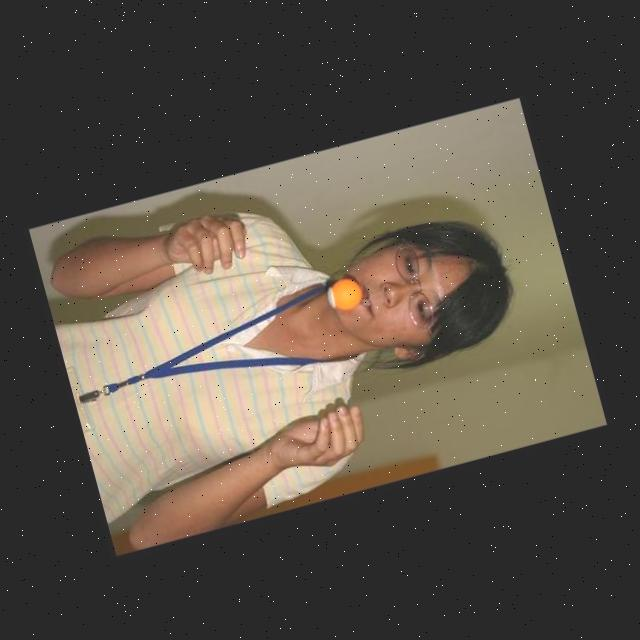ping-pong-ball: (322, 272, 364, 312)
